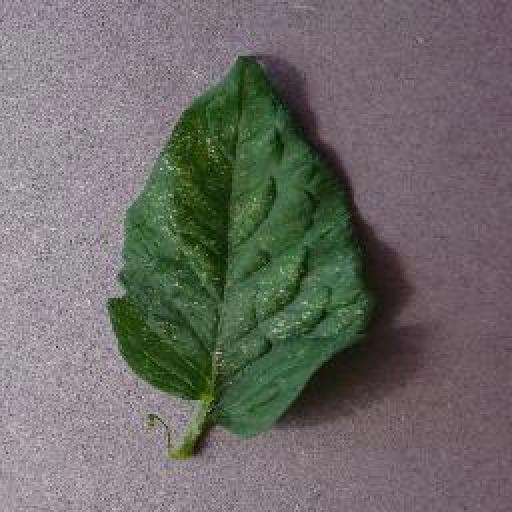disease_tomato: (110, 50, 366, 438)
